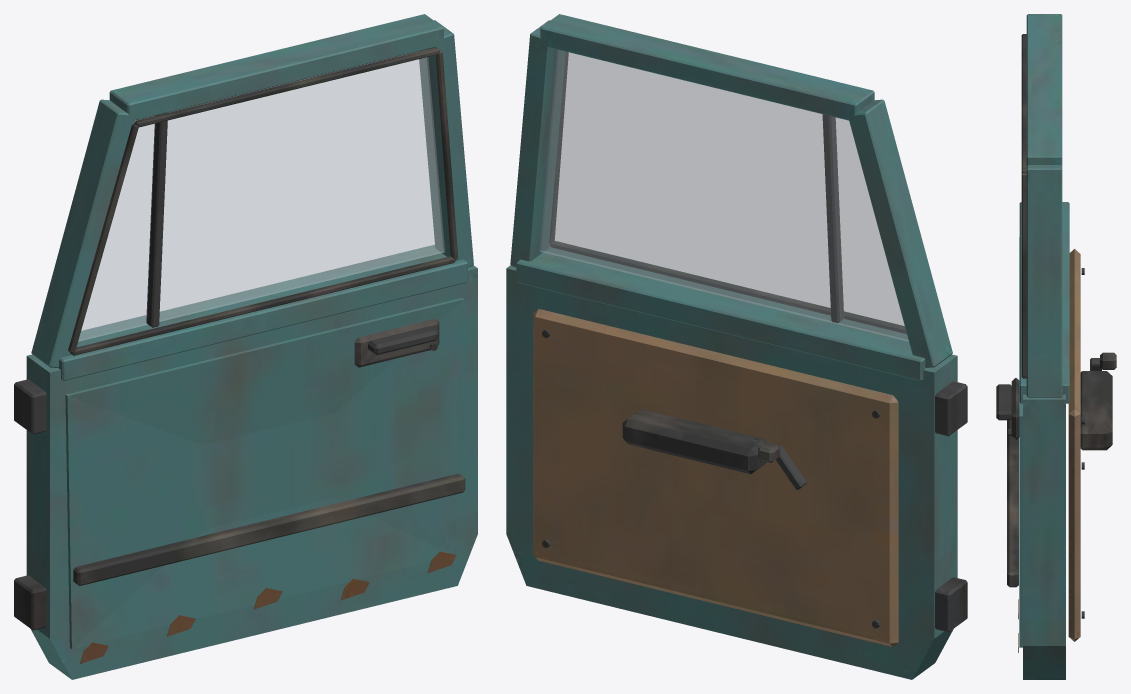
The model's file is JV13_detached_car_doors_v1.glb.
3 renders of one model, left to right at view 1: azimuth 30°, elevation 25°; view 2: azimuth 150°, elevation 25°; view 3: azimuth 270°, elevation 25°, orthographic. The views are drawn at different scales.
Visible parts, largest first — view 1: Folded door shell; view 2: Folded door shell; view 3: Folded door shell.
Boxes of the visible parts, x1,y1,x2,y2 form: Folded door shell: (14, 14, 477, 679); Folded door shell: (506, 14, 967, 679); Folded door shell: (996, 14, 1116, 679).
Bounding box in the file's own units: 0.992 × 1.2 × 0.253.
6 materials, 5 textured.
